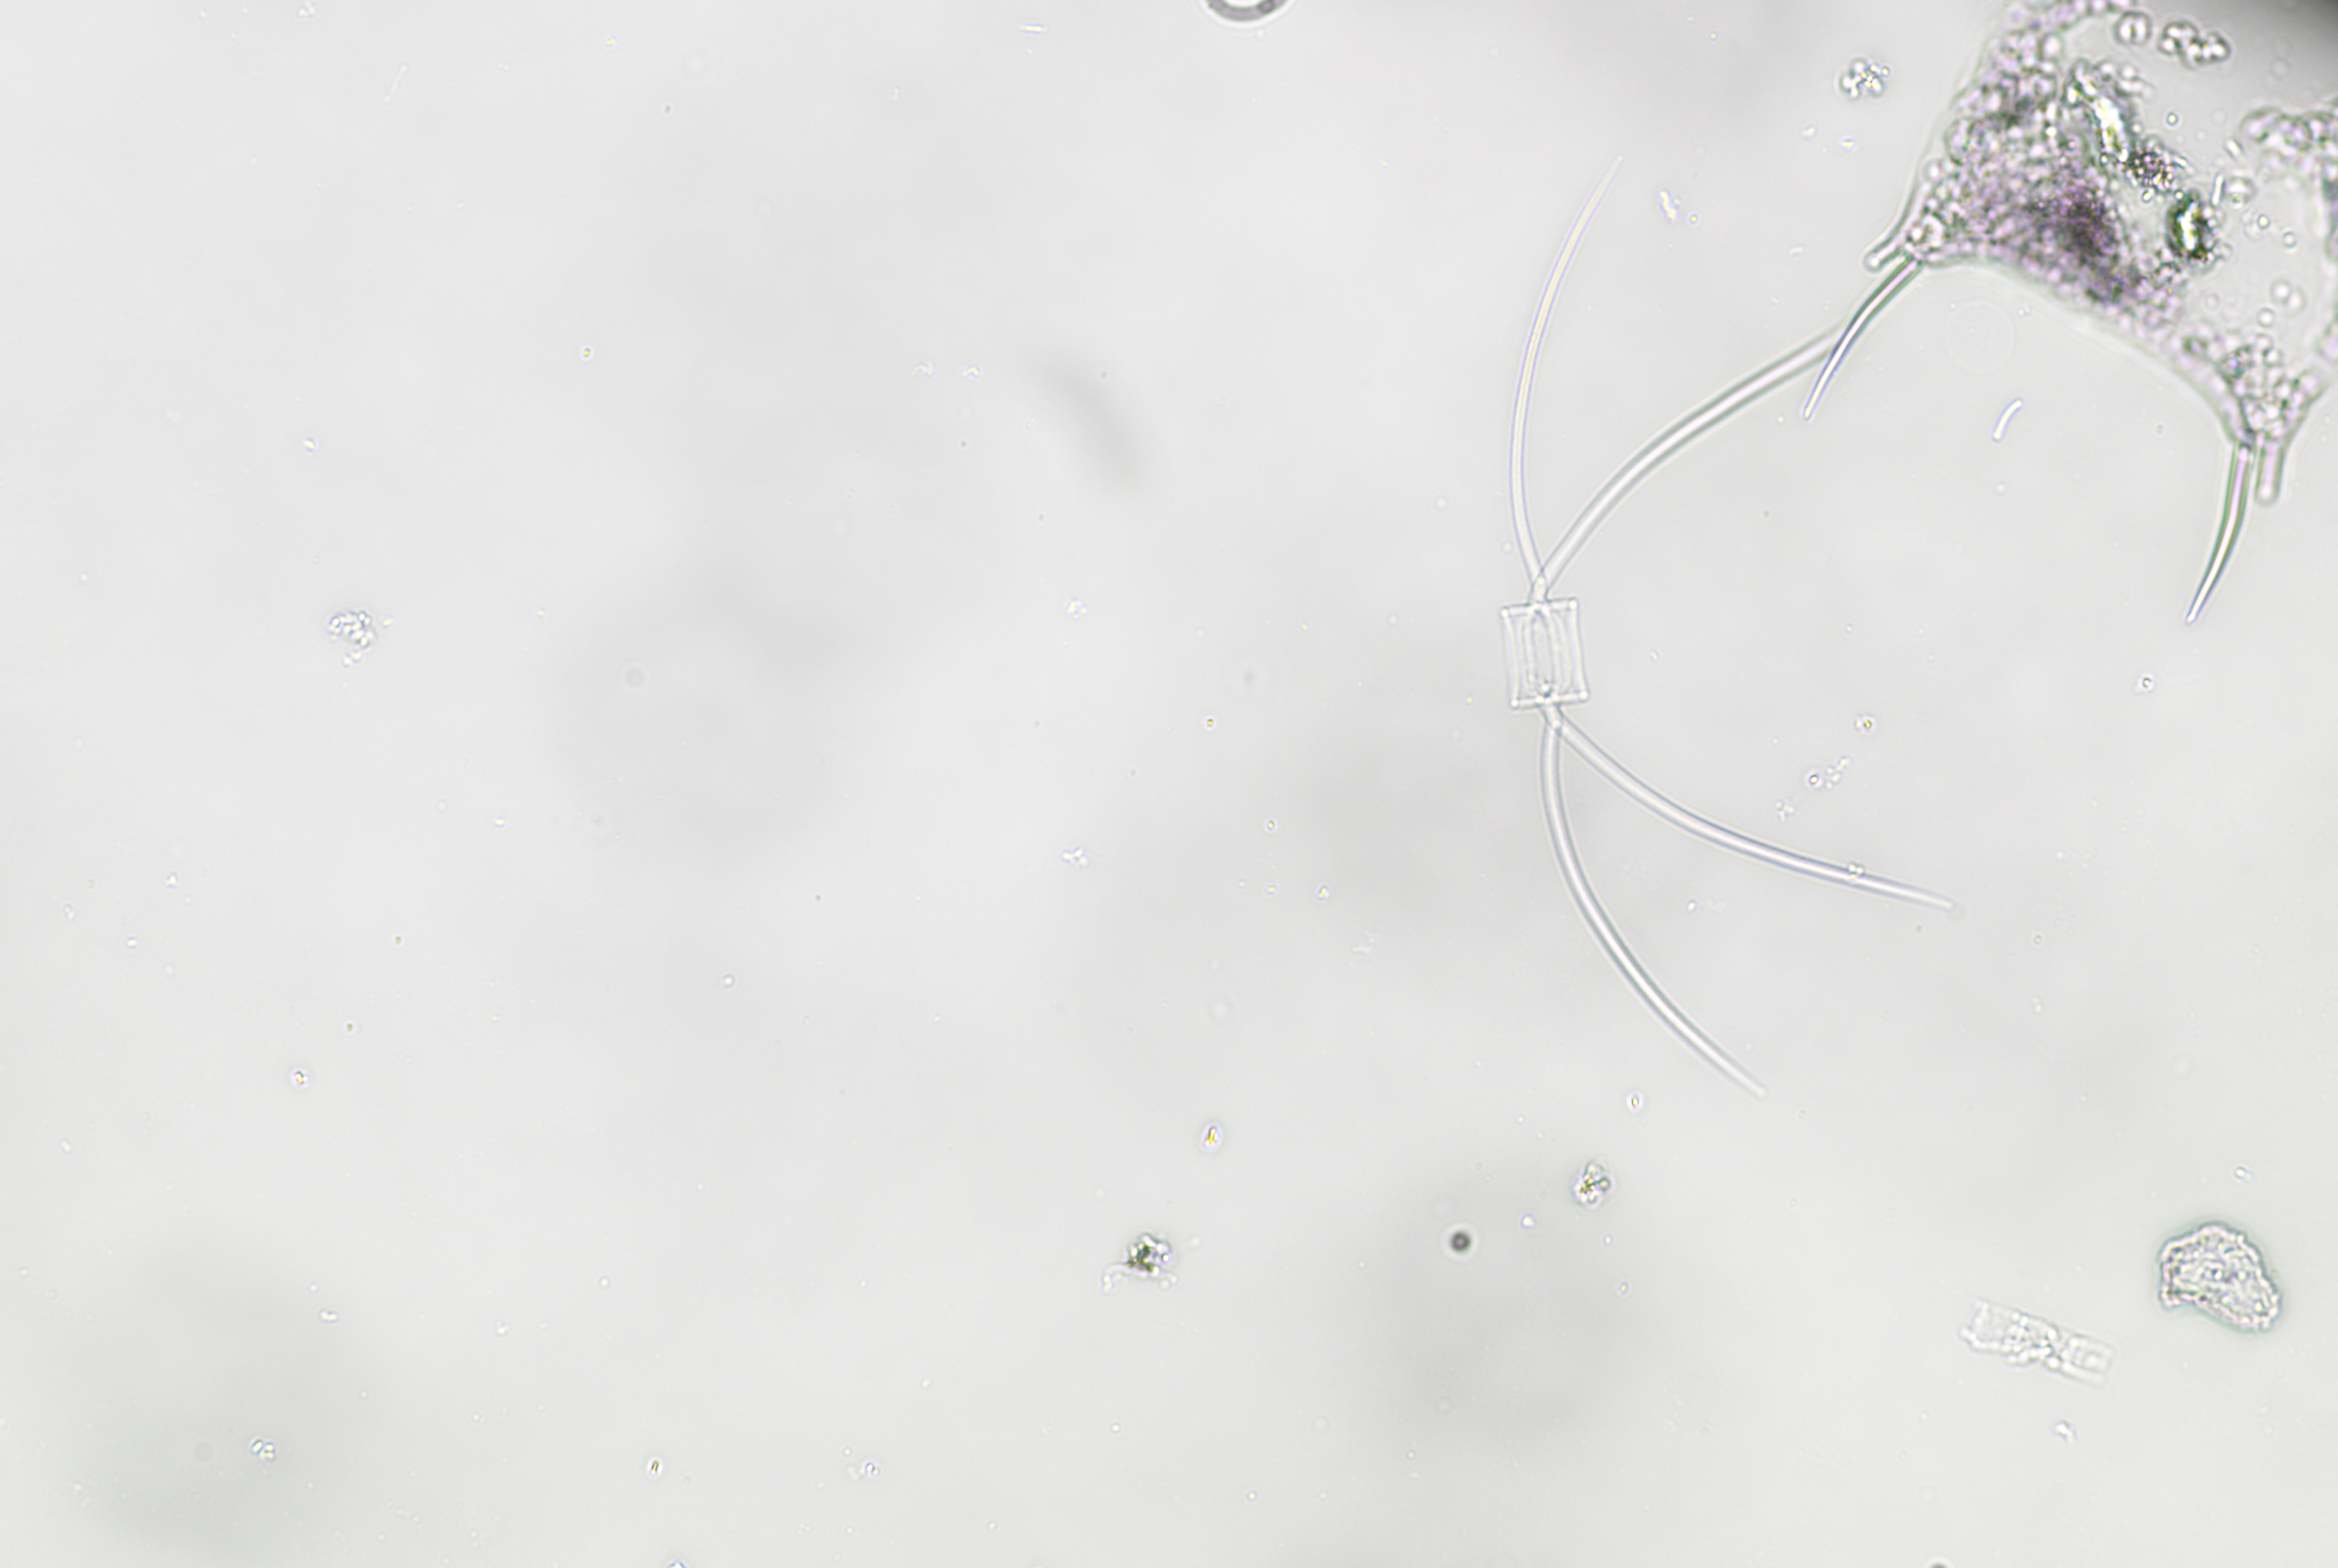chaetoceros: (1498, 135, 1950, 1104)
